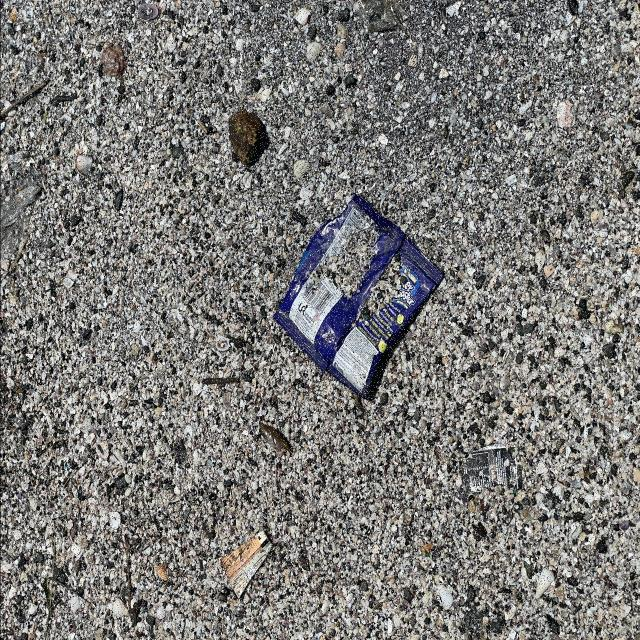plastic_waste: (275, 197, 448, 405)
